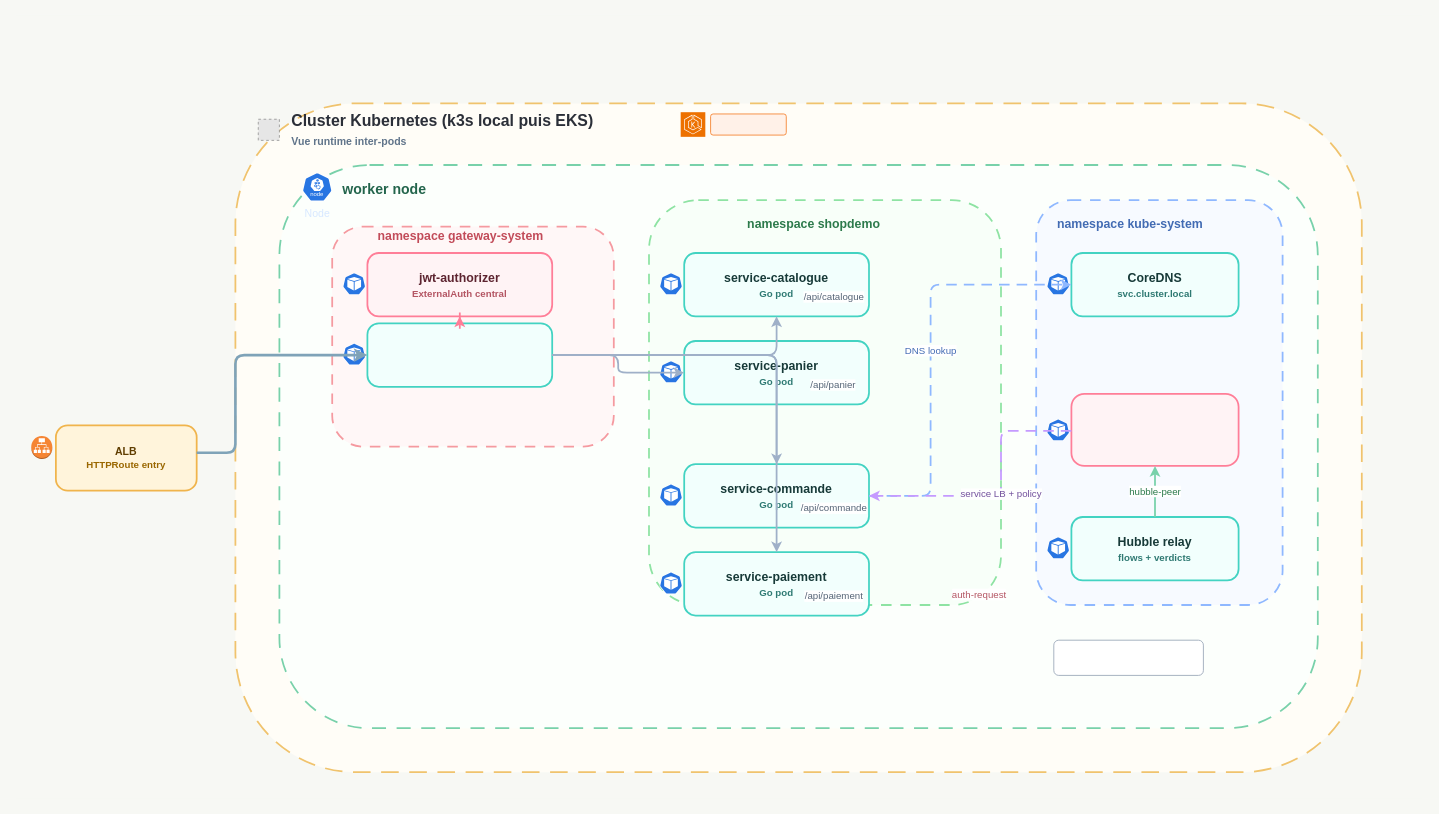
Image size: 1439x814. Some labels were removed from this diagram. Grey dashed boxes stand in for pictures. Each missing label, with the centre of its shape:
"Cilium agent service LB + NetworkPolicy" goes at pixel 1154 429.
"EKS target" goes at pixel 748 124.
"Flux runtime uniquement" goes at pixel 1128 657.
"Gateway API NGINX Gateway Fabric pod + svc" goes at pixel 459 354.
